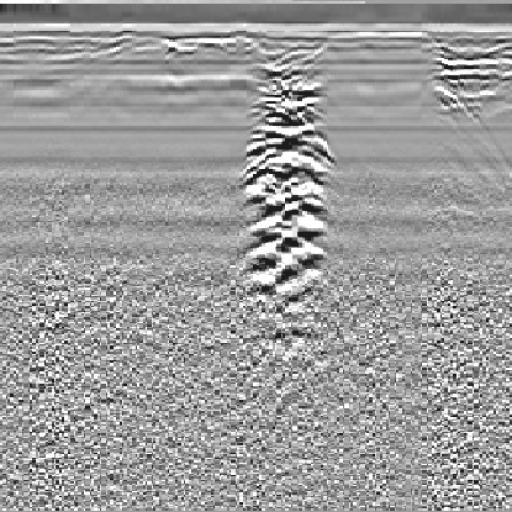metalic: (221, 52, 355, 346)
